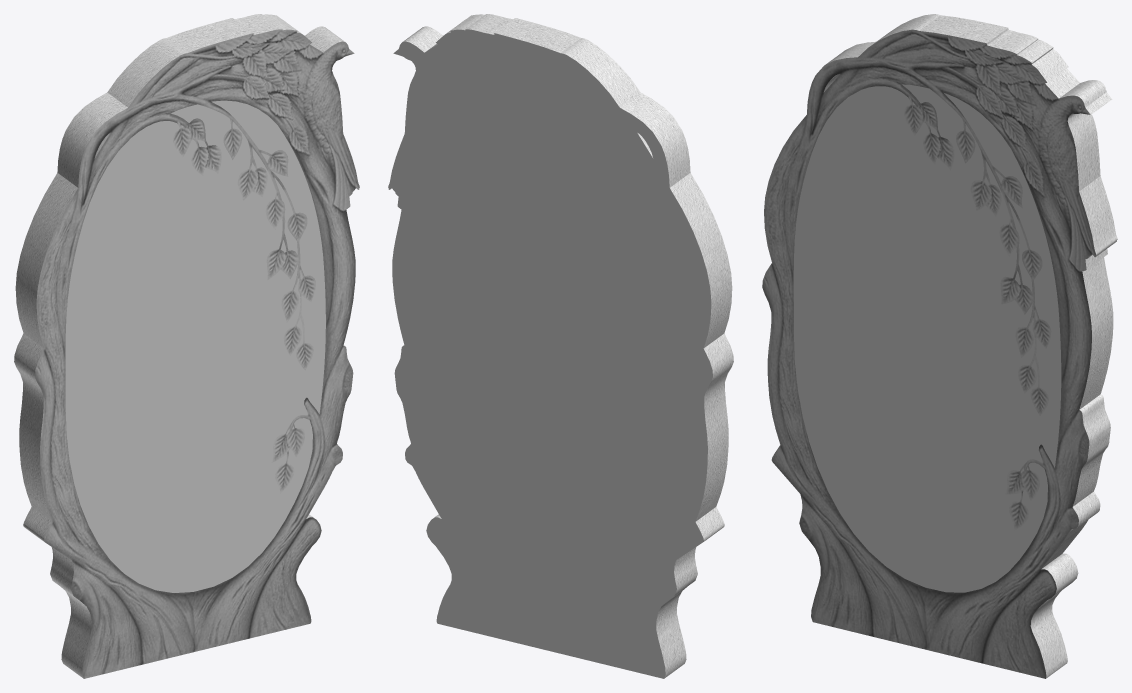
File: cn3075729fc5_tkf.glb
The picture shows the model from 3 angles, left to right: view 1: azimuth 30°, elevation 25°; view 2: azimuth 150°, elevation 25°; view 3: azimuth 330°, elevation 25°; orthographic projection. The views are drawn at different scales.
Parts seen in each view (by area): view 1: Pam-d02-094, Pam-d02-094_2_notexture; view 2: Pam-d02-094, Pam-d02-094_2_notexture; view 3: Pam-d02-094, Pam-d02-094_2_notexture.
Part boxes in pixels (box(x1,y1,x2,y2)): Pam-d02-094: box(65, 100, 325, 592); Pam-d02-094_2_notexture: box(14, 14, 359, 678); Pam-d02-094: box(388, 29, 712, 678); Pam-d02-094_2_notexture: box(391, 14, 733, 678); Pam-d02-094: box(793, 84, 1061, 592); Pam-d02-094_2_notexture: box(762, 14, 1117, 678).
Bounding box in the file's own units: 0.45 × 0.8 × 0.05.
Materials: 1 (1 with a texture image).
